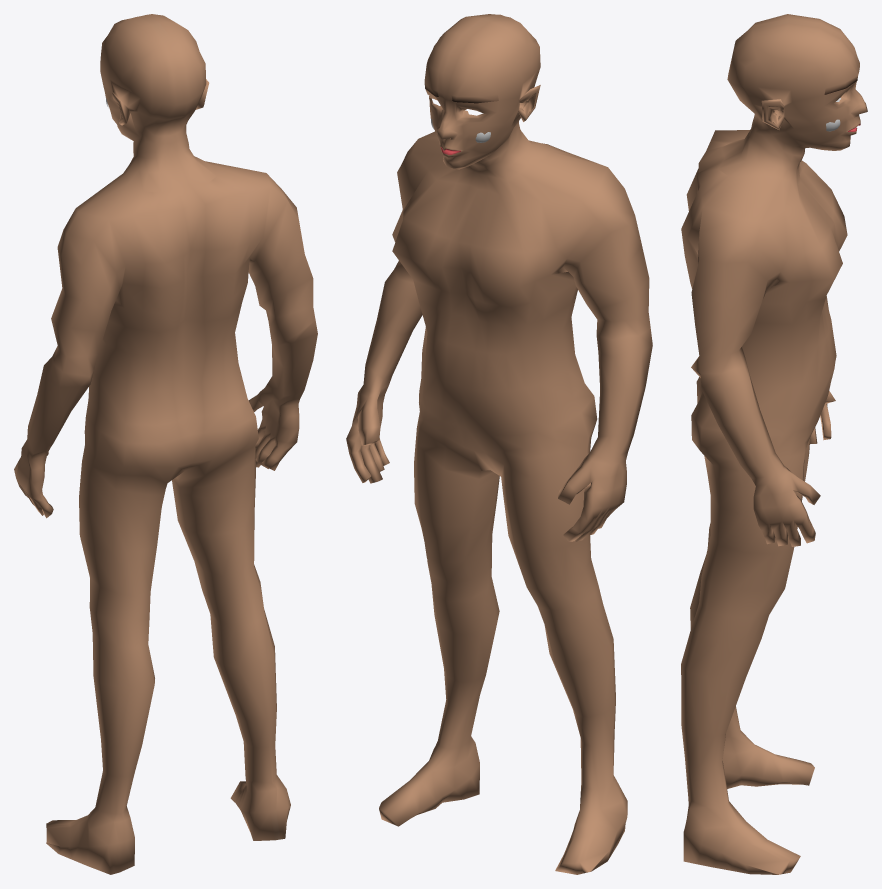
Rendered from boneco9.glb.
3 views of the same model, side by side, from view 1: azimuth 30°, elevation 25°; view 2: azimuth 150°, elevation 25°; view 3: azimuth 270°, elevation 25° (orthographic). The views are drawn at different scales.
Visible parts, largest first — view 1: Plane.010; view 2: Plane.010; view 3: Plane.010.
Part boxes in pixels (x1,y1,x2,y2): Plane.010: (14, 14, 317, 874); Plane.010: (346, 14, 652, 874); Plane.010: (681, 14, 867, 874).
Bounding box in the file's own units: 1.2 × 3.47 × 0.7314.
